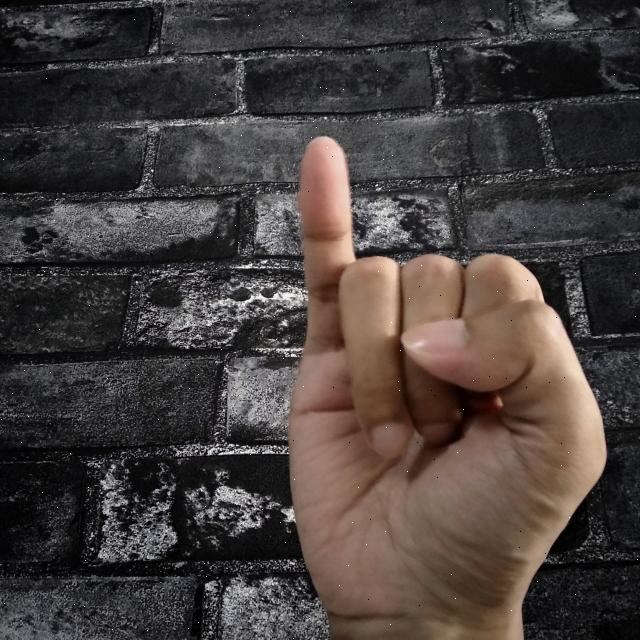I: (281, 133, 611, 640)
